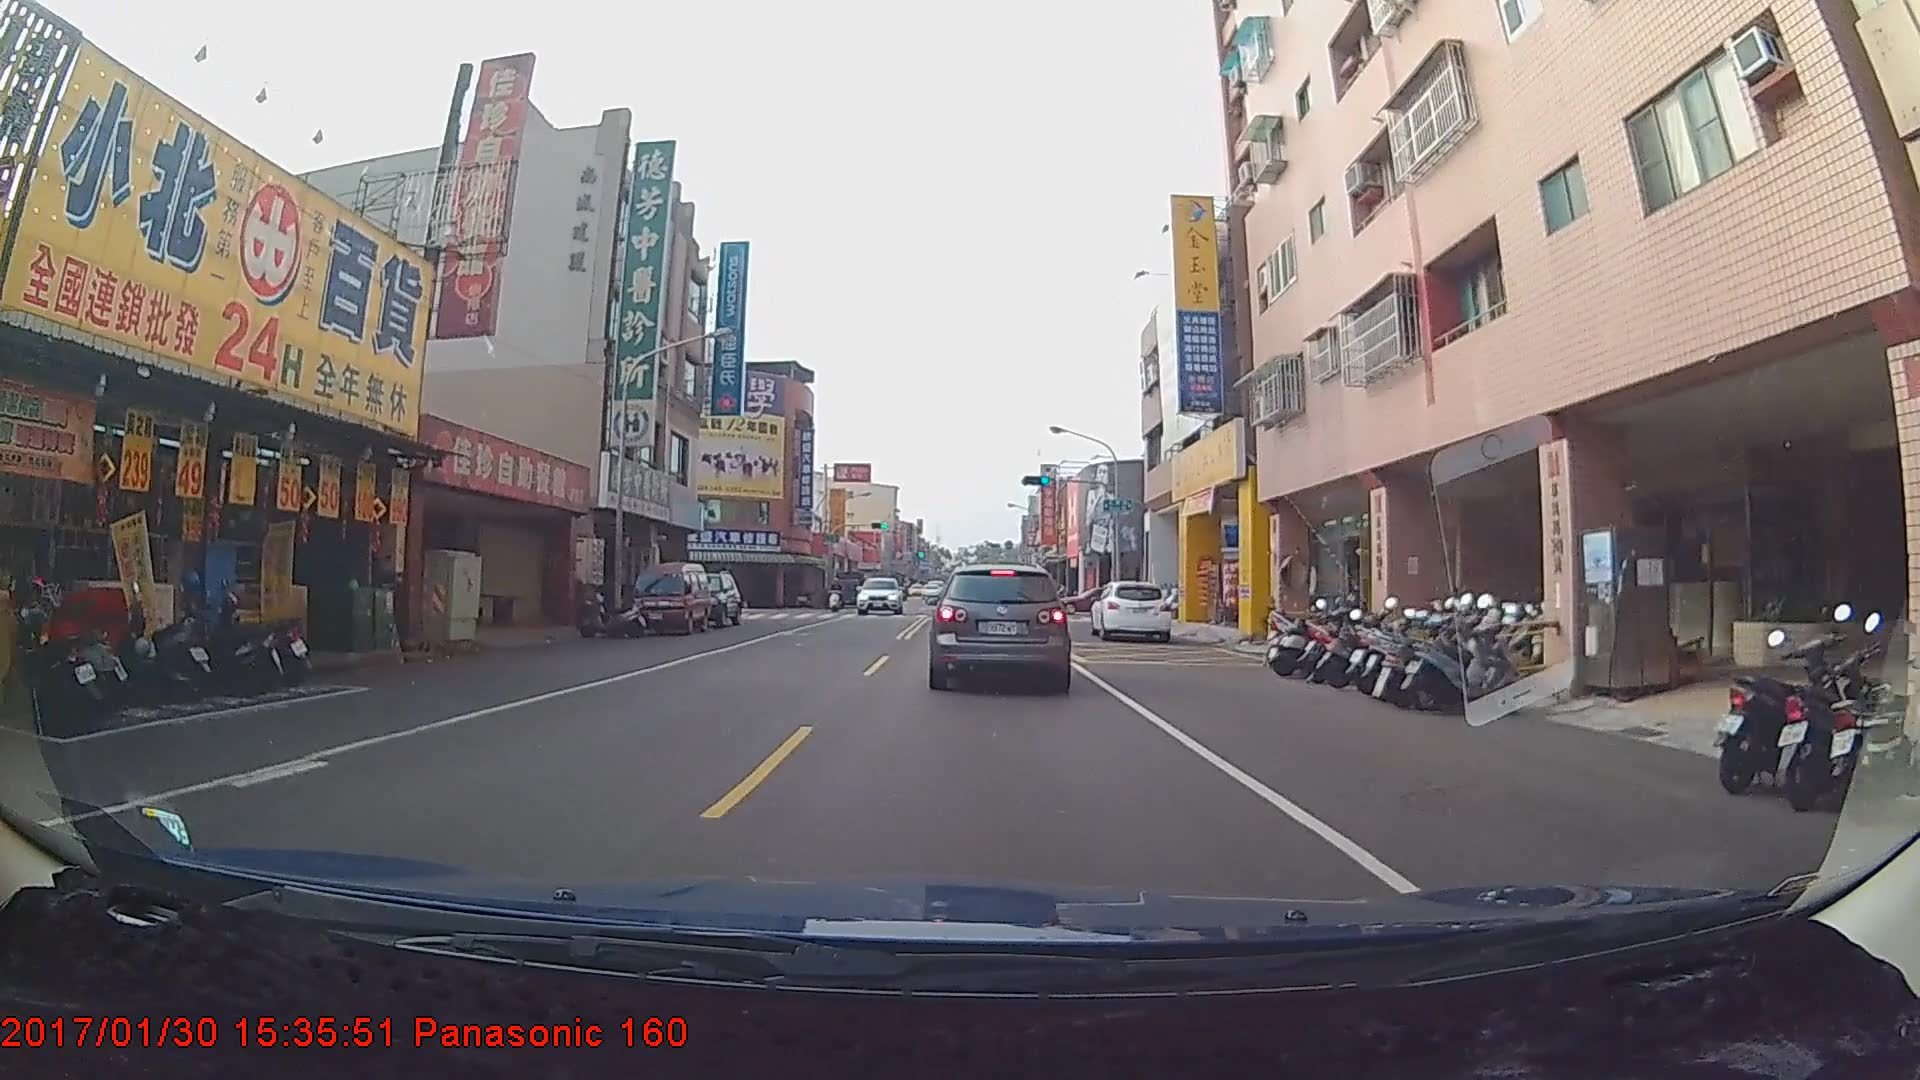vehicle: (931, 560, 1069, 688), (626, 567, 711, 640), (1091, 580, 1172, 644), (675, 568, 742, 626), (855, 576, 891, 608)
